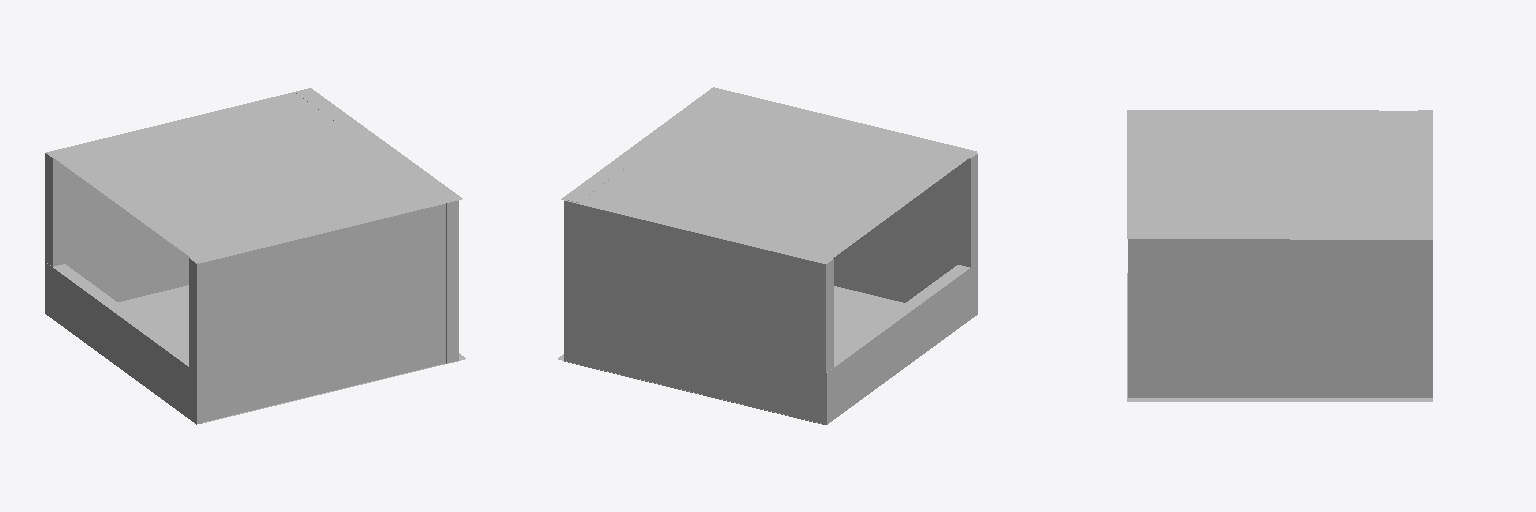
File: walls3_test.obj
The picture shows the model from 3 angles: view 1: azimuth 30°, elevation 25°; view 2: azimuth 150°, elevation 25°; view 3: azimuth 270°, elevation 25°; orthographic projection.
Parts seen in each view (by area): view 1: Cube.002, Plane.001, Cube.003, Cube, Cube.001, Plane; view 2: Cube.003, Plane.001, Cube.002, Cube, Plane, Cube.001; view 3: Cube.001, Plane.001, Cube.003, Plane.
Part boxes in pixels (left/top/right/bottom): Cube.002: left=189, top=204, right=445, bottom=424; Plane.001: left=46, top=88, right=462, bottom=263; Cube.003: left=45, top=97, right=271, bottom=315; Cube: left=45, top=262, right=188, bottom=418; Cube.001: left=295, top=89, right=458, bottom=363; Plane: left=118, top=285, right=465, bottom=423; Cube.003: left=564, top=201, right=833, bottom=424; Plane.001: left=561, top=87, right=976, bottom=263; Cube.002: left=833, top=153, right=977, bottom=318; Cube: left=826, top=265, right=970, bottom=424; Plane: left=558, top=286, right=904, bottom=423; Cube.001: left=565, top=163, right=627, bottom=202; Cube.001: left=1128, top=231, right=1430, bottom=397; Plane.001: left=1127, top=110, right=1432, bottom=239; Cube.003: left=1418, top=110, right=1432, bottom=397; Plane: left=1127, top=273, right=1432, bottom=401.
Size of the model in its own units: 16.45 by 9.43 by 16.18.